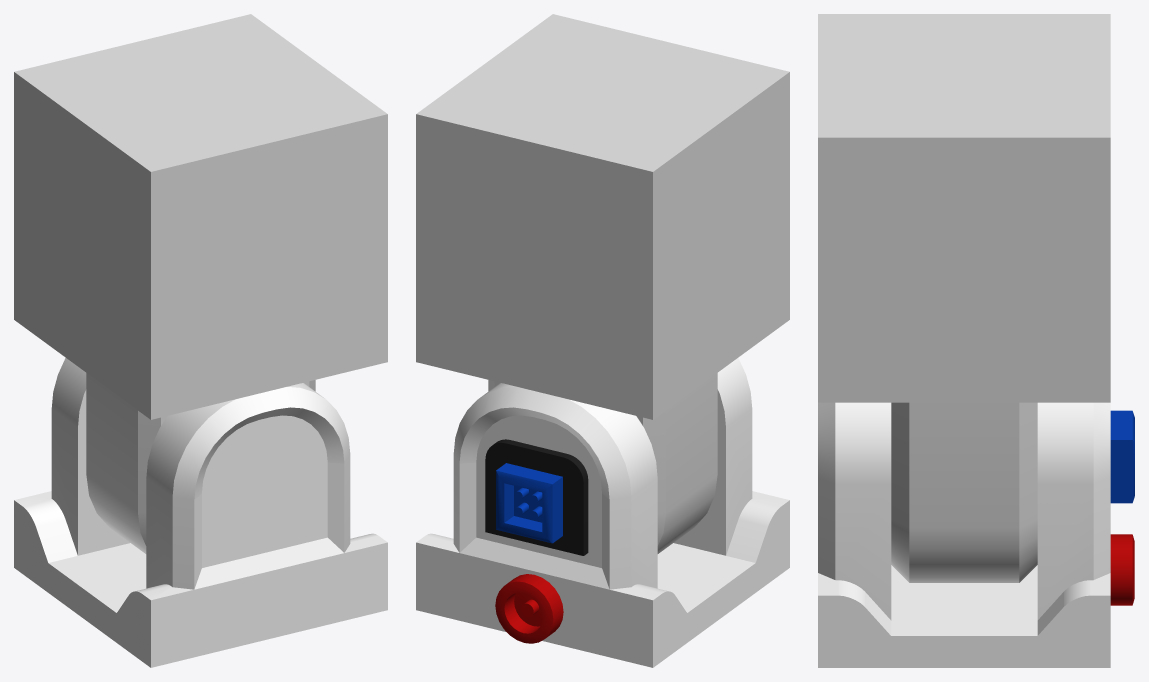
File: SmallHinge.gltf
The picture shows the model from 3 angles, left to right: view 1: azimuth 30°, elevation 25°; view 2: azimuth 150°, elevation 25°; view 3: azimuth 270°, elevation 25°; orthographic projection. The views are drawn at different scales.
Visible parts, largest first — view 1: slave, master; view 2: slave, master; view 3: slave, master.
Boxes of the visible parts, x1,y1,x2,y2 form: slave: (14, 14, 387, 553); master: (14, 358, 387, 667); slave: (416, 14, 789, 553); master: (416, 358, 789, 667); slave: (818, 14, 1110, 582); master: (818, 402, 1134, 667).
Bounding box in the file's own units: 0.25 × 0.5 × 0.2706.
